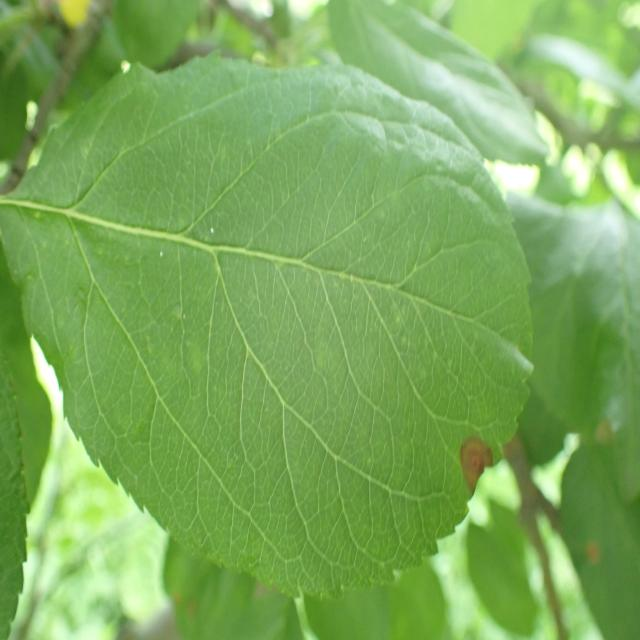Black Rot: (442, 412, 498, 522)
